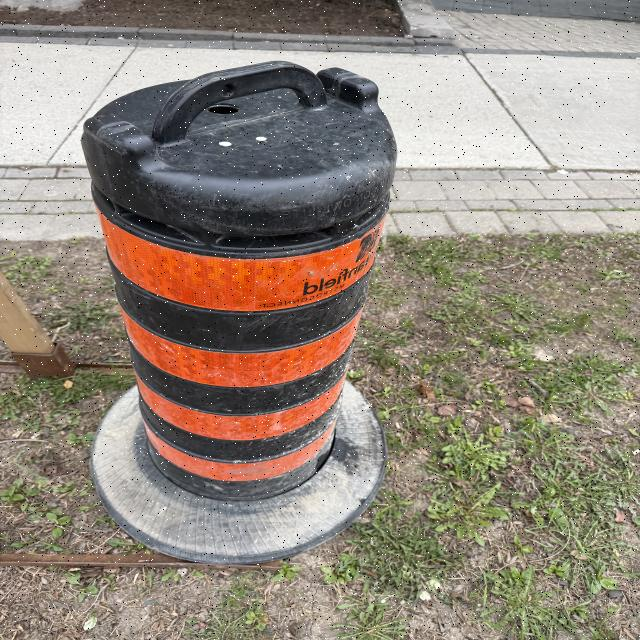Teraffic Barrel: (83, 62, 396, 562)
